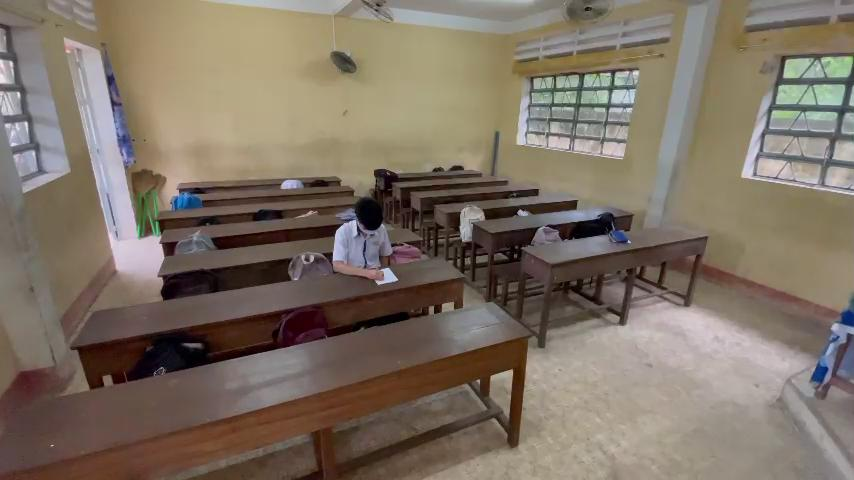Hand Under Table: (377, 226, 395, 277)
